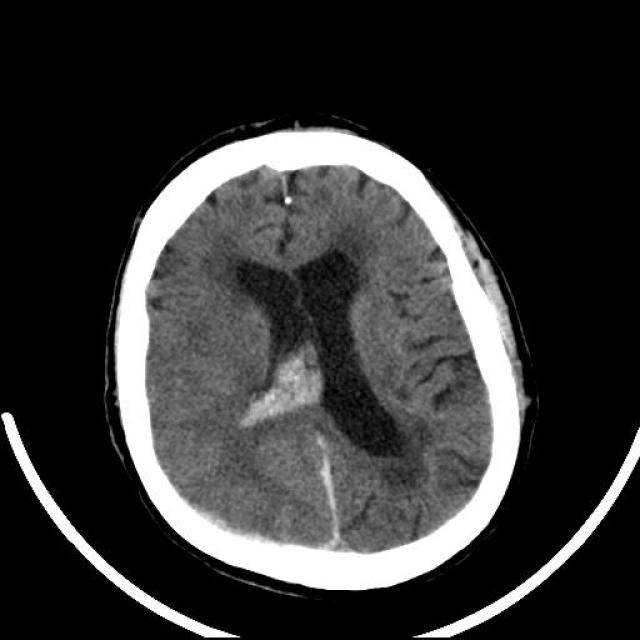Intraventricular: (218, 333, 334, 458)
Subdural: (168, 485, 320, 561), (305, 442, 355, 548)
